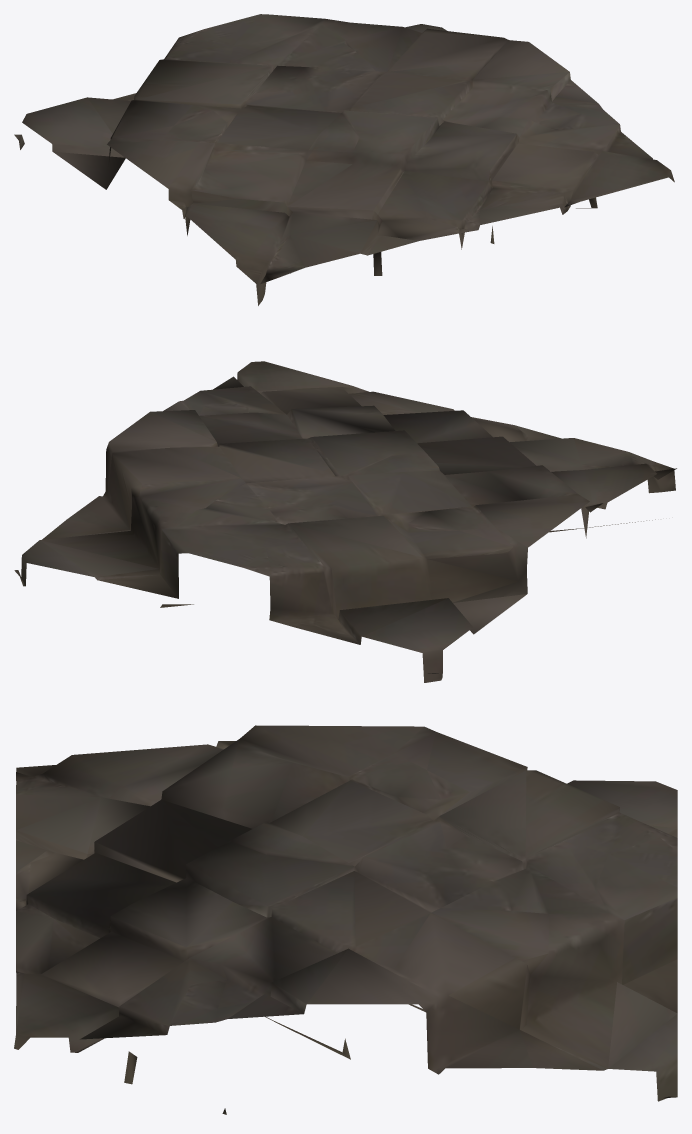
The model's file is floor_slab_ready.glb.
3 views of the same model, one above another, from view 1: azimuth 30°, elevation 25°; view 2: azimuth 150°, elevation 25°; view 3: azimuth 270°, elevation 25° (orthographic). The views are drawn at different scales.
Parts seen in each view (by area): view 1: Module; view 2: Module; view 3: Module.
Part boxes in pixels (x1=…): Module: x1=14, y1=14, x2=674, y2=305; Module: x1=14, y1=361, x2=676, y2=682; Module: x1=14, y1=725, x2=677, y2=1114.
Bounding box in the file's own units: 3 × 0.58 × 3.
Materials: 1 (1 with a texture image).
